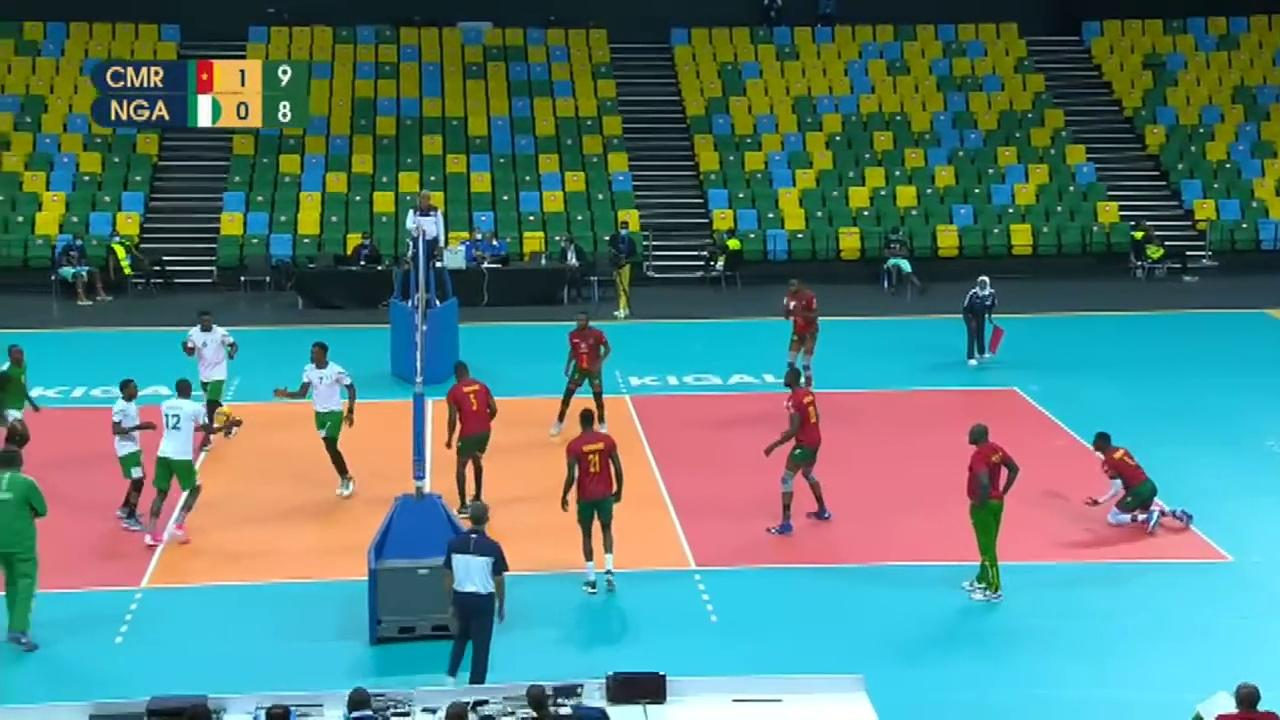player: (283, 344, 362, 496), (762, 370, 835, 530), (1089, 431, 1196, 539), (559, 412, 624, 588), (146, 381, 209, 554), (180, 306, 244, 449), (100, 369, 156, 529), (442, 364, 497, 515), (553, 313, 609, 434), (0, 339, 44, 481), (774, 275, 825, 391)
refree: (441, 501, 507, 685), (406, 191, 447, 282), (961, 273, 999, 366)
